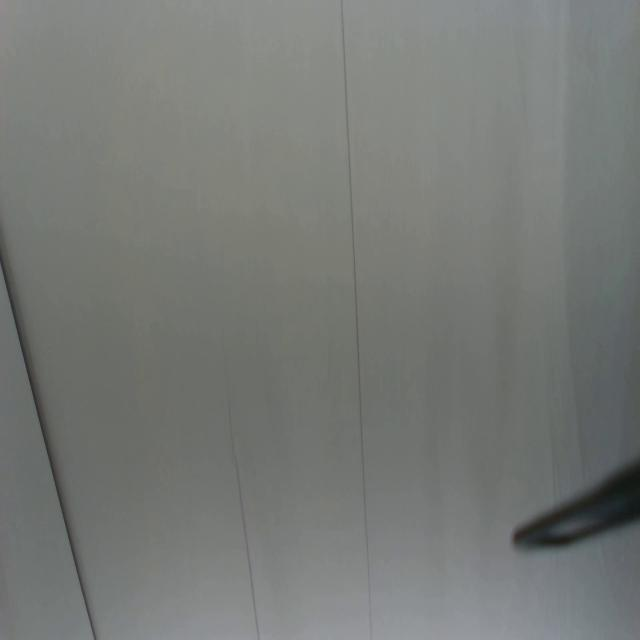crease: (0, 246, 99, 638), (338, 0, 377, 639), (226, 398, 262, 640)
